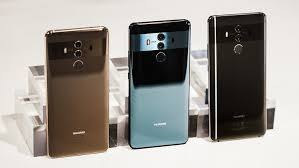huawei: (41, 22, 111, 158), (123, 15, 193, 151), (206, 10, 276, 146)
